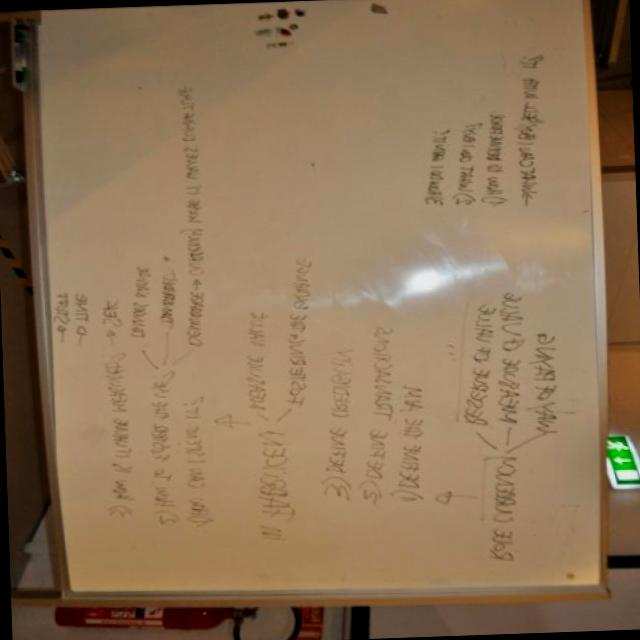White-board: (33, 0, 603, 591)
